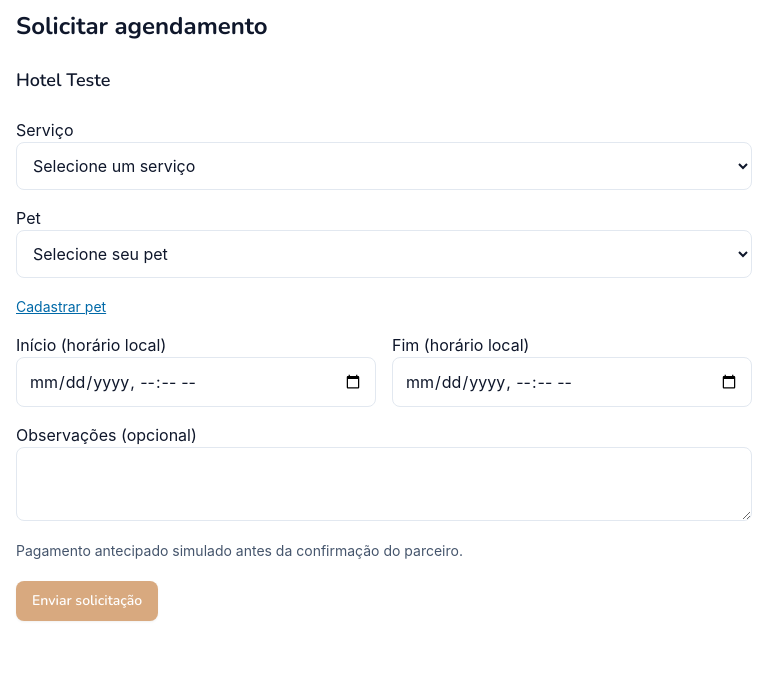
Test: presencial não anuncia confirmação e não oferece pagamento
The width and height of the screenshot is (769, 683).
Check: the heading "Hotel Teste" is shown, box [16,68,110,92]
Select "Hospedagem — R$ 100,00 por diária" in the dropdown labelled "Serviço": (384, 166) [16,142,752,190]
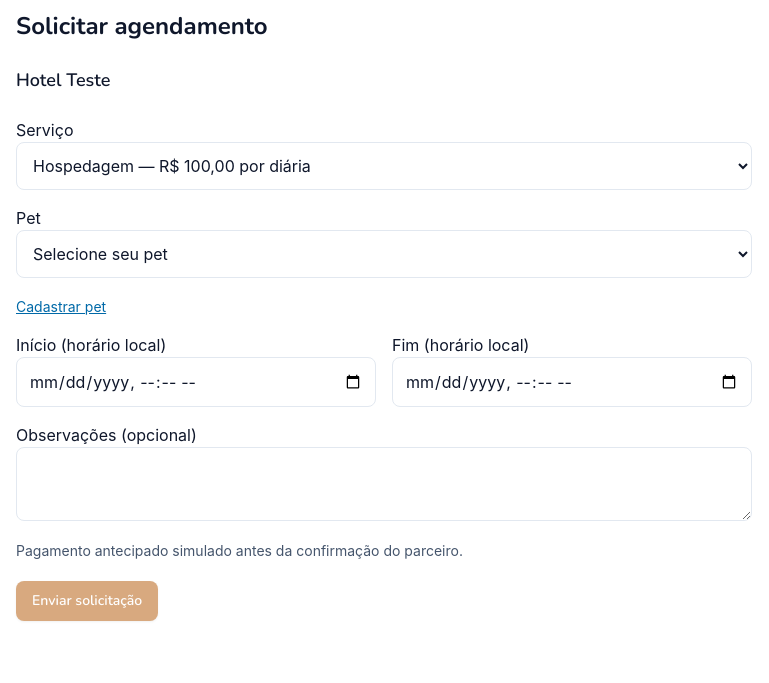
Select "Rex" in the dropdown labelled "Pet": (384, 254) [16,230,752,278]
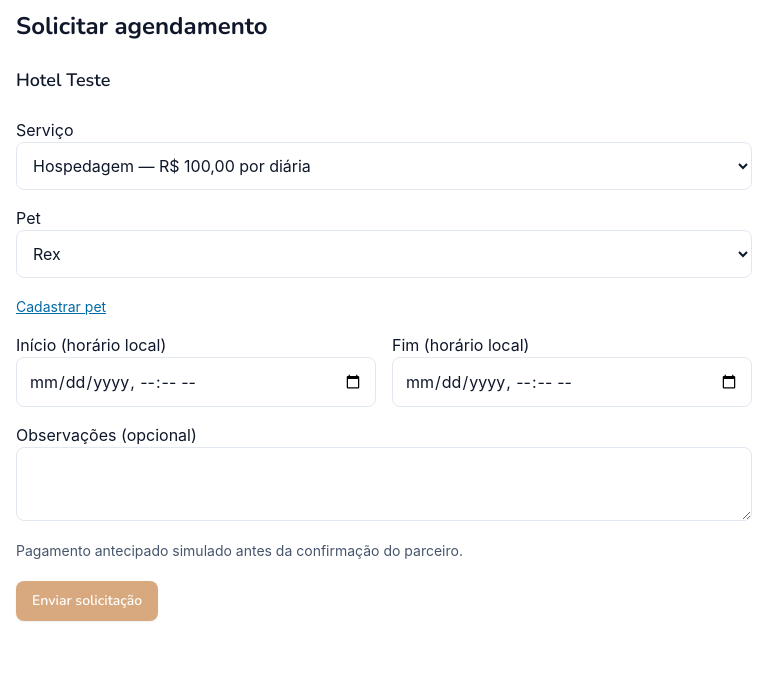
In the field labelled "Início (horário local)": (196, 382) [16,357,376,407], type "2099-01-10T10:00"
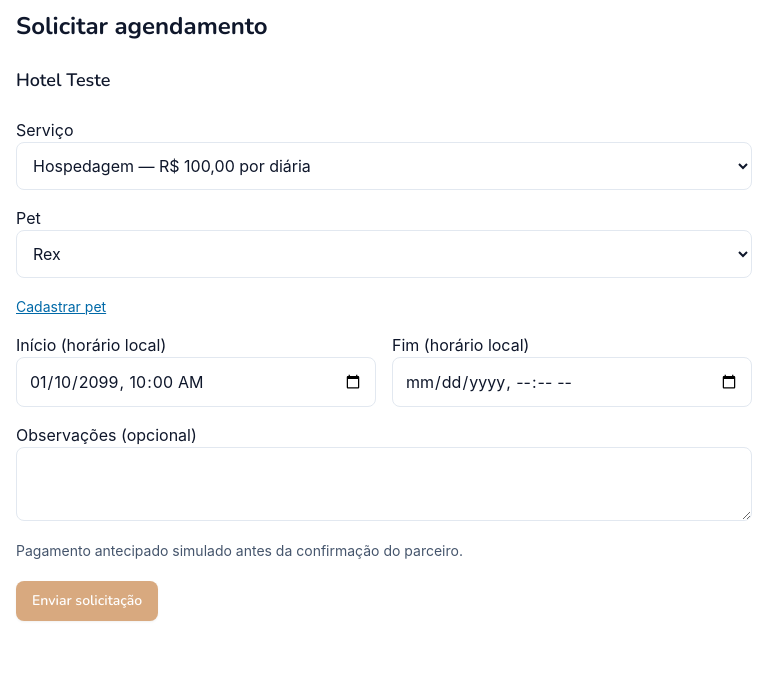
In the field labelled "Fim (horário local)": (572, 382) [392,357,752,407], type "2099-01-11T10:00"
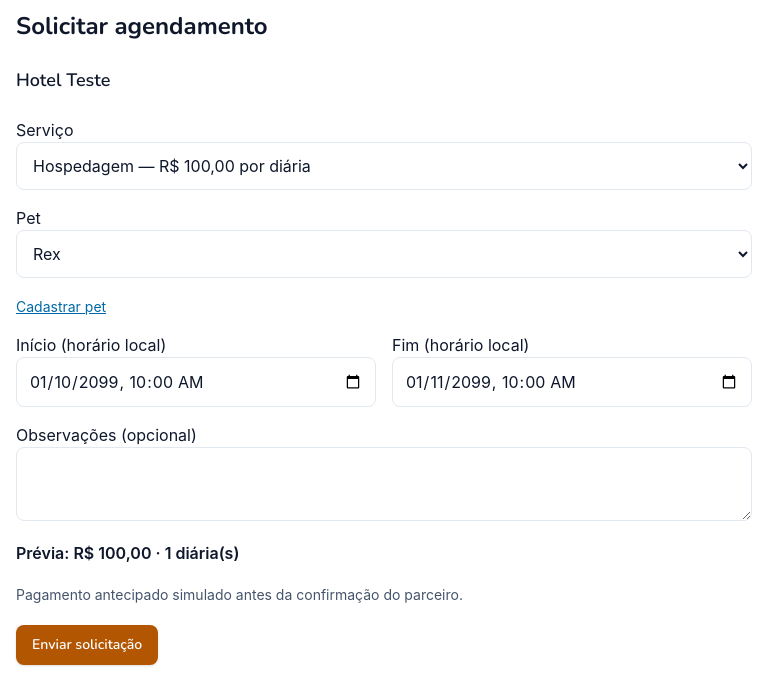
Click the button "Enviar solicitação": (87, 645) [16,625,158,665]
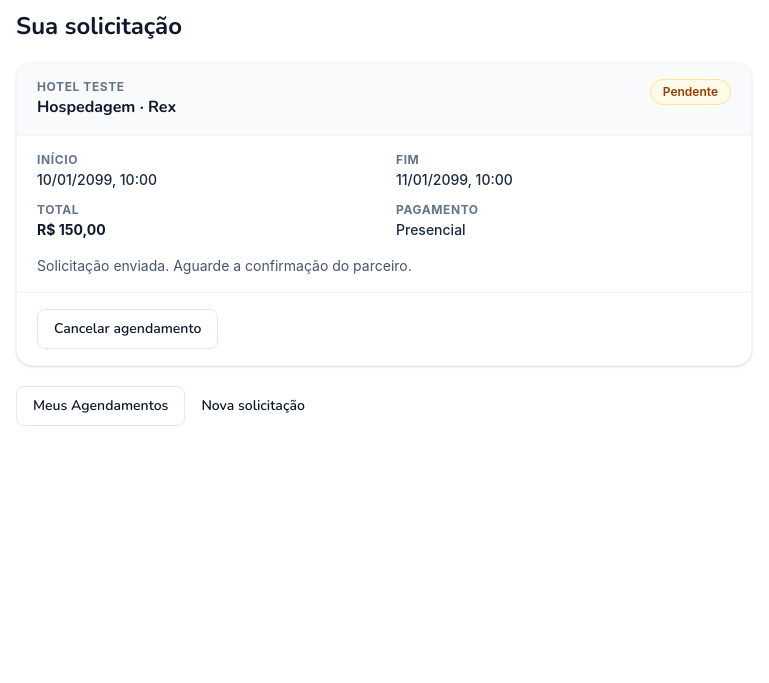
Check: the text "Solicitação enviada. Aguarde a confirmação do parceiro." is shown, box [37,257,412,274]
